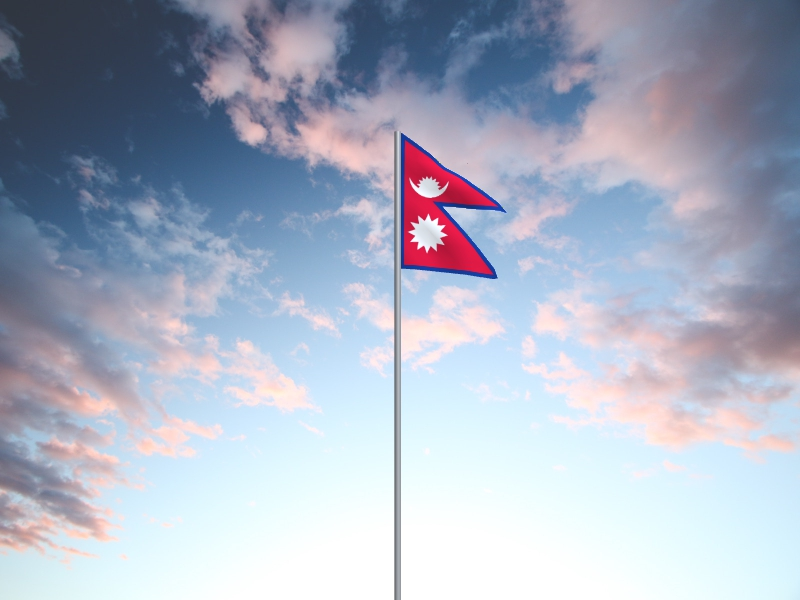np: (402, 133, 508, 280)
